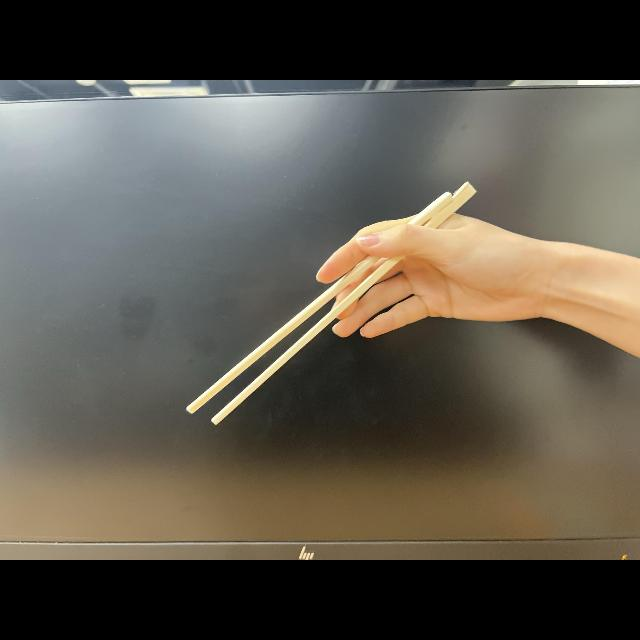stick: (185, 180, 531, 426)
